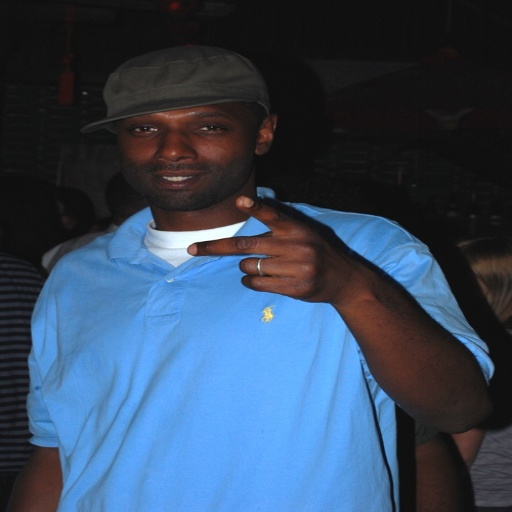hand: (230, 208, 370, 313)
